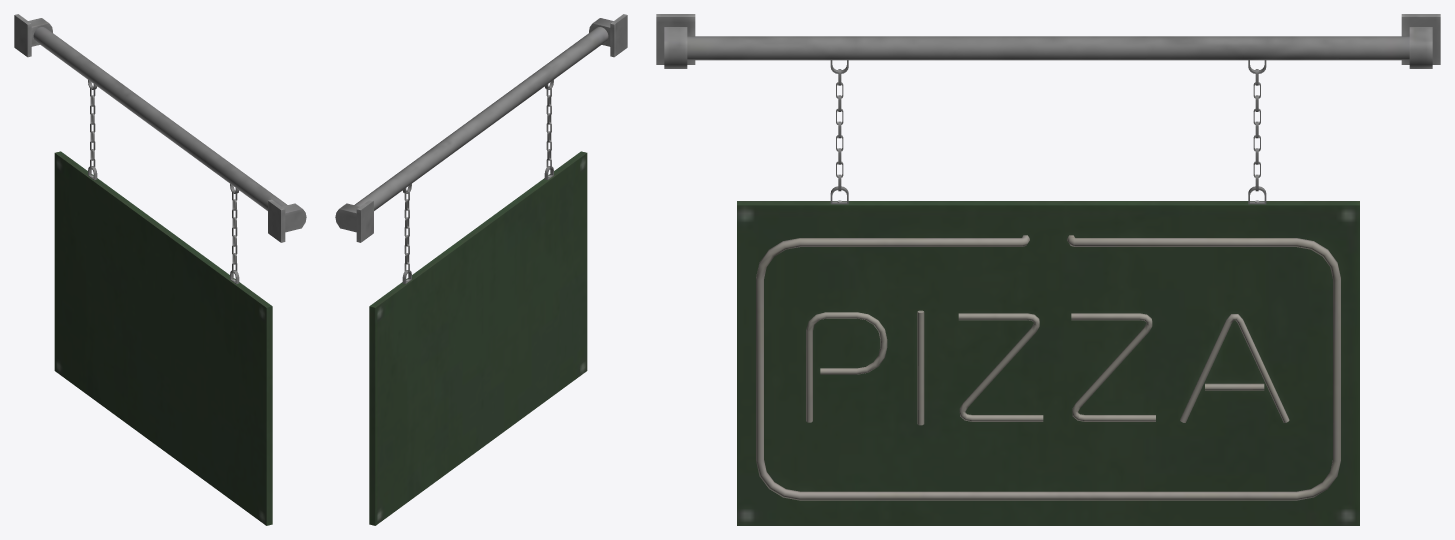
The model's file is SM_NeonSigns_Pizza.FBX.
3 renders of one model, left to right at view 1: azimuth 30°, elevation 25°; view 2: azimuth 150°, elevation 25°; view 3: azimuth 270°, elevation 25°, orthographic. The views are drawn at different scales.
Parts seen in each view (by area): view 1: SM_NeonSigns_Pizza_LOD0; view 2: SM_NeonSigns_Pizza_LOD0; view 3: SM_NeonSigns_Pizza_LOD0.
Boxes of the visible parts, x1,y1,x2,y2 form: SM_NeonSigns_Pizza_LOD0: [14, 14, 306, 525]; SM_NeonSigns_Pizza_LOD0: [335, 14, 627, 525]; SM_NeonSigns_Pizza_LOD0: [656, 14, 1440, 525].
Size of what is drawn, in the model's own units: 13.76 by 225 by 158.
